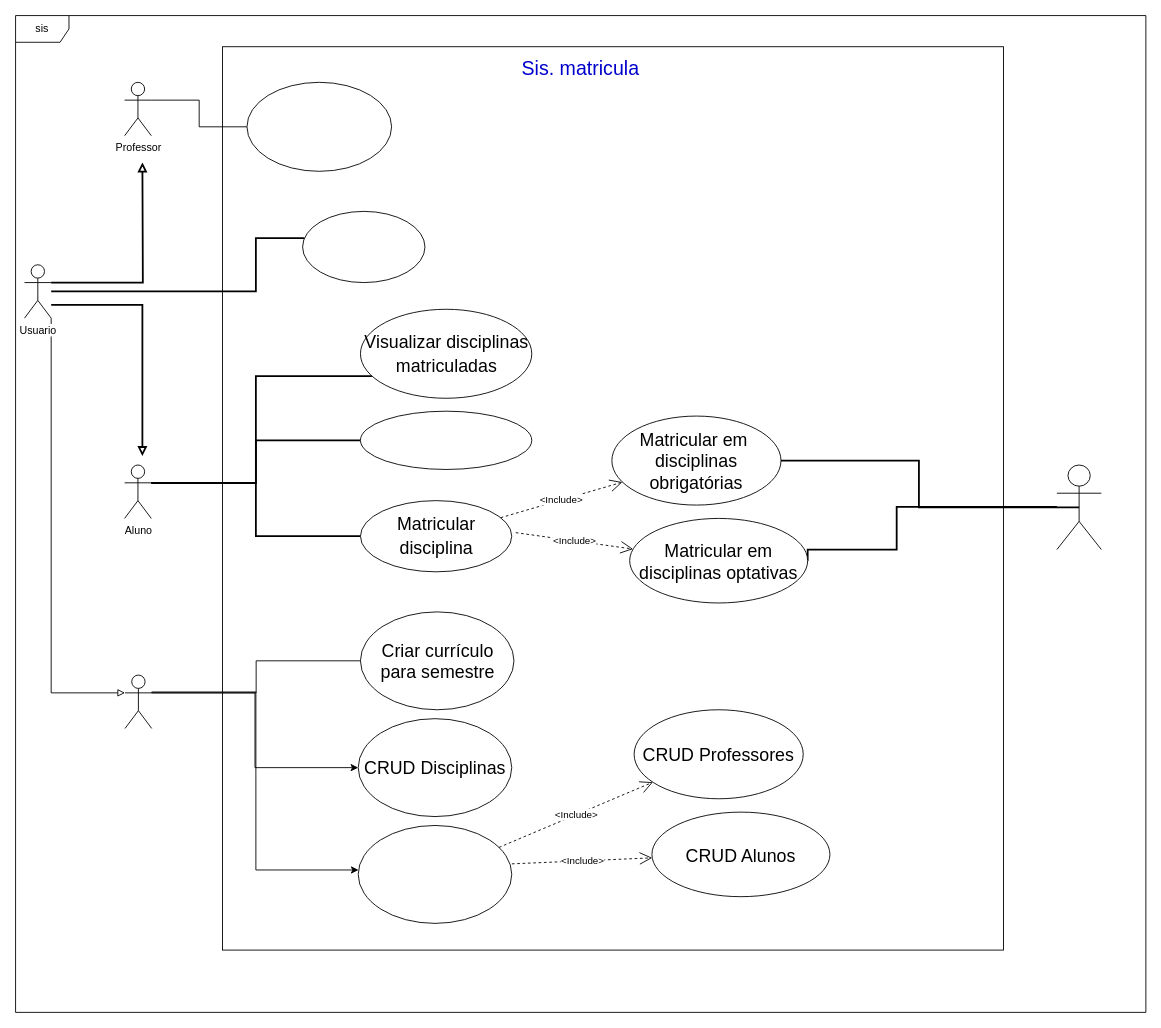
Image size: 1161x1028. Some labels were removed from this diagram. Each missing label, with the box of its shape:
Cancelar matricula disciplina: (360, 410, 532, 469)
CRUD Usuários: (357, 825, 512, 923)
Login no sistema: (302, 210, 425, 283)
Secretária acadêmica (Admin): (124, 674, 152, 728)
Sistema de cobranças <sistema>: (1056, 464, 1101, 550)
Visualizar disciplinas: (246, 81, 392, 171)
